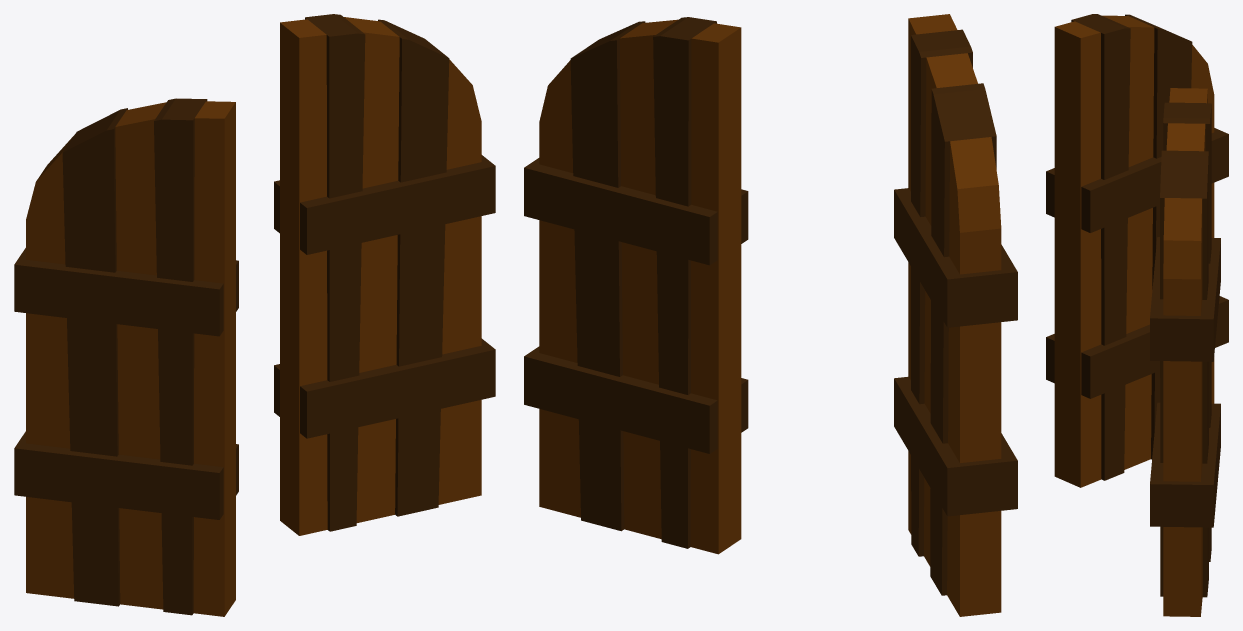
Rendered from doorOpen.fbx.
3 renders of one model, left to right at view 1: azimuth 30°, elevation 25°; view 2: azimuth 150°, elevation 25°; view 3: azimuth 270°, elevation 25°, orthographic. The views are drawn at different scales.
Parts seen in each view (by area): view 1: Cube; view 2: Cube; view 3: Cube.
Boxes of the visible parts, x1=… form: Cube: x1=14, y1=14, x2=495, y2=616; Cube: x1=524, y1=14, x2=1017, y2=616; Cube: x1=1046, y1=14, x2=1228, y2=616.
Size of the model in its own units: 260 by 266 by 98.23.
Materials: 1 (1 with a texture image).
